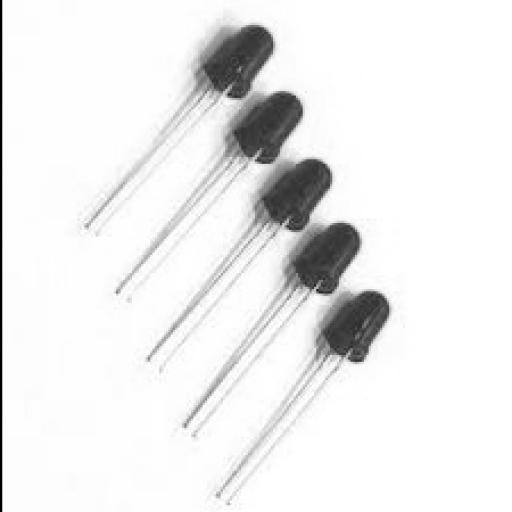LED: (42, 10, 266, 220), (240, 248, 412, 492), (172, 150, 344, 336), (234, 59, 324, 207), (294, 192, 377, 300)
